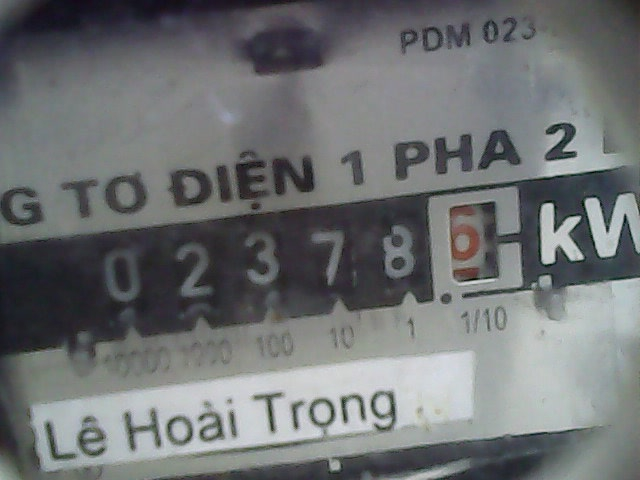phy_plate: (78, 181, 531, 321)
